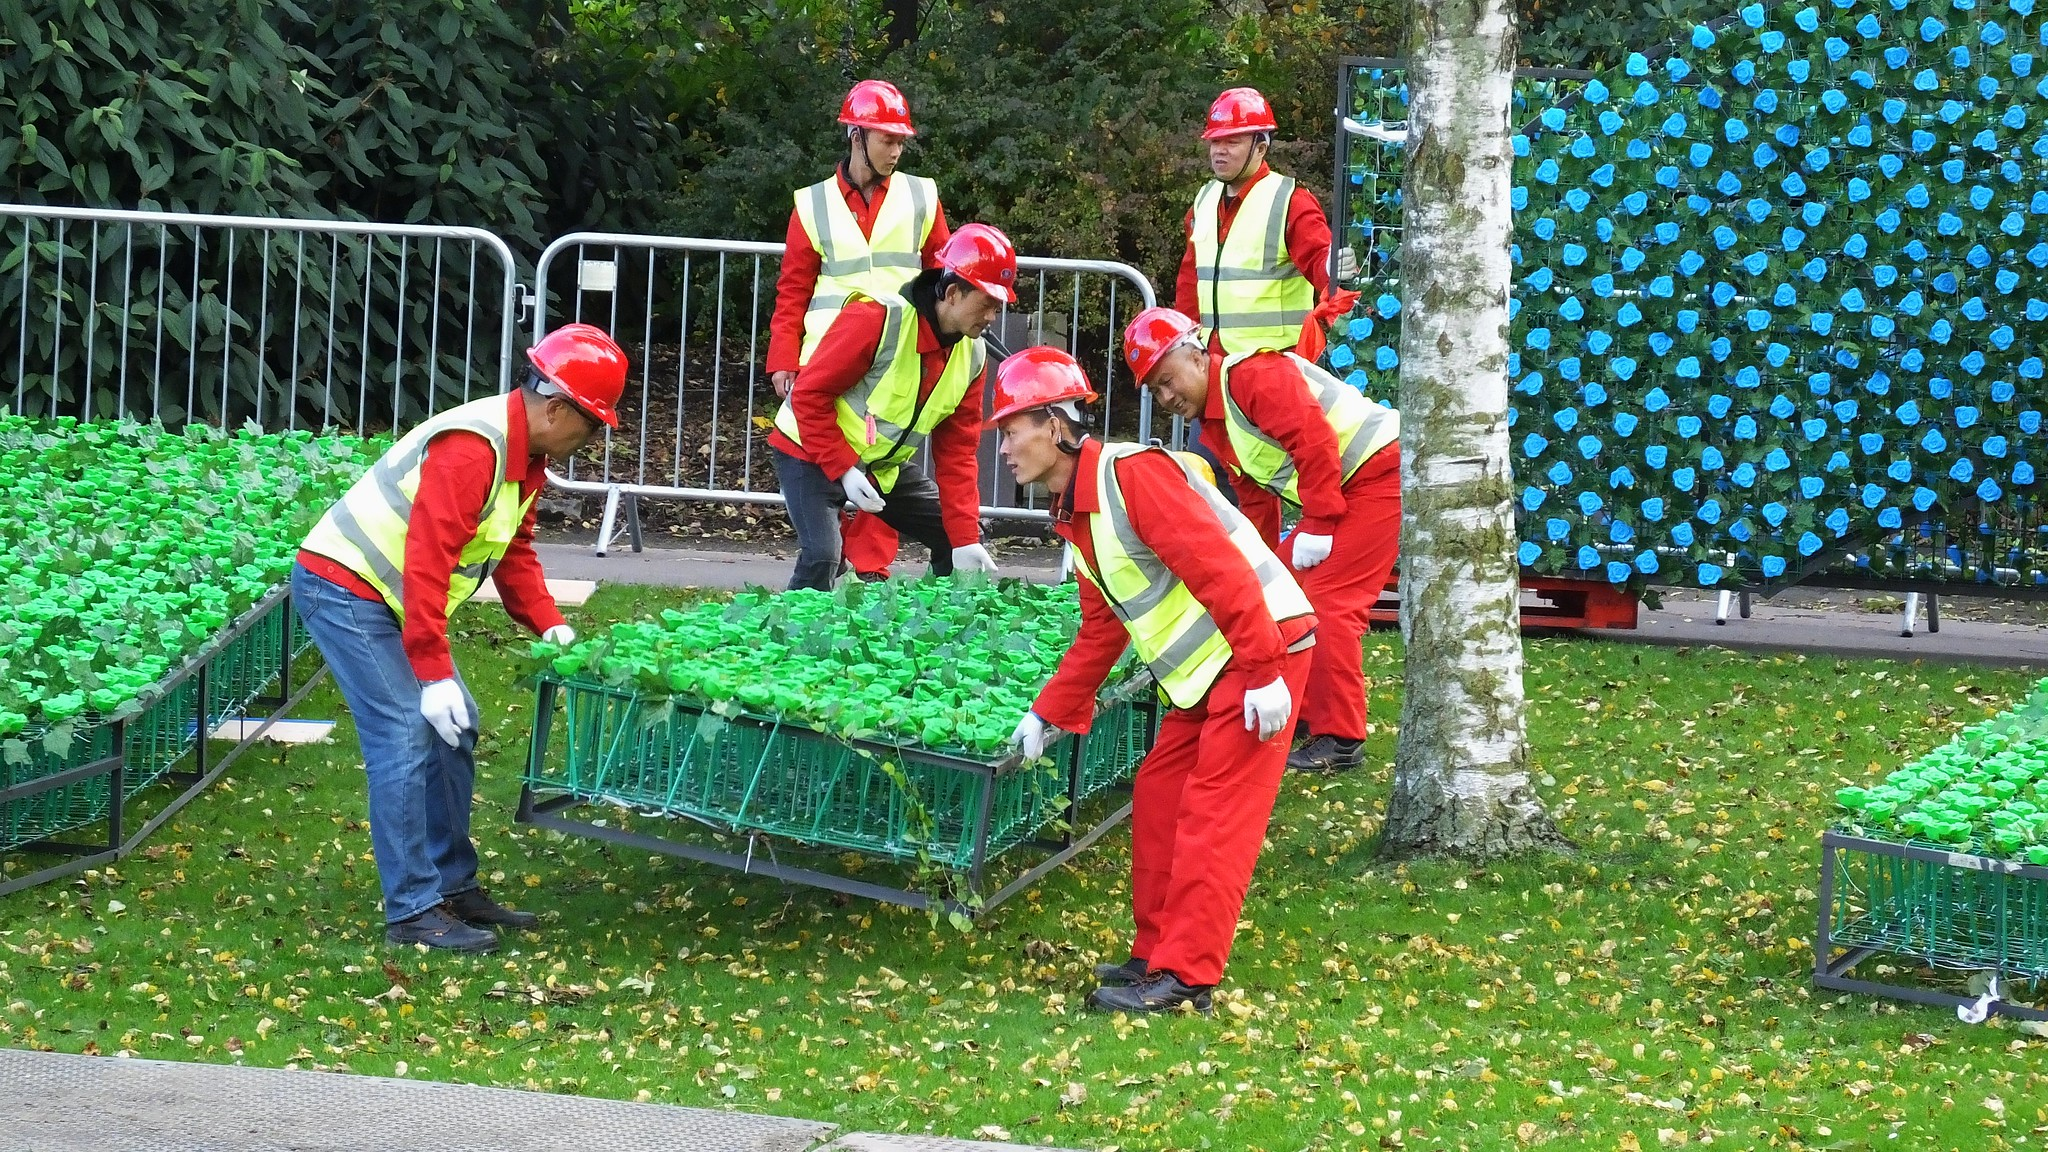Helmet: (504, 316, 633, 489), (982, 345, 1101, 515), (931, 219, 1034, 350), (1107, 300, 1207, 430), (833, 76, 927, 194), (1191, 80, 1284, 198)
Reflective vest: (1049, 440, 1319, 716), (286, 390, 554, 639), (762, 290, 1006, 499), (1210, 350, 1411, 516), (781, 167, 941, 369), (1175, 174, 1335, 354)
